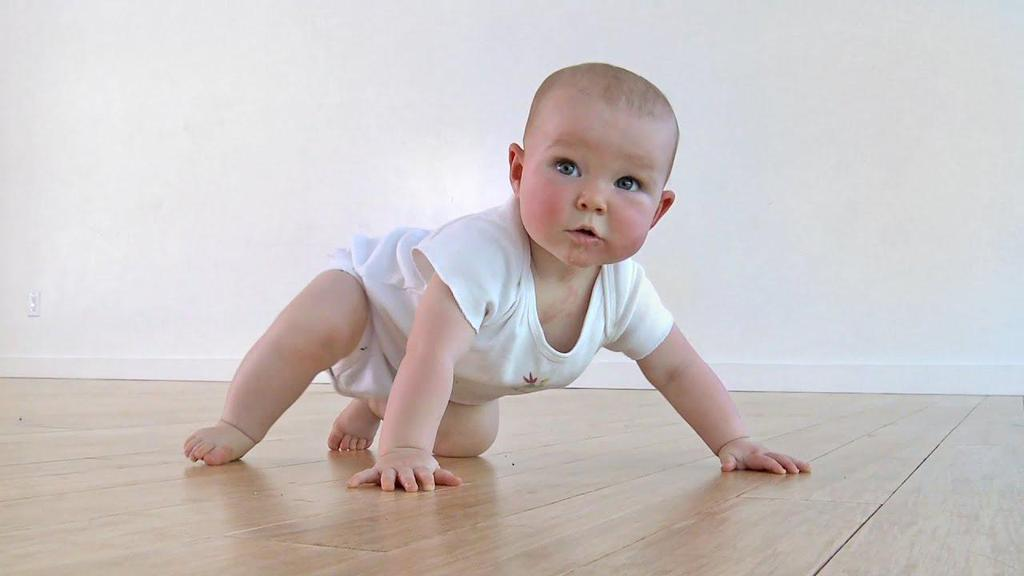child: (140, 54, 830, 516)
